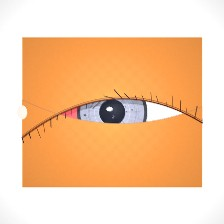hemorrhage_spot: (44, 76, 140, 152)
